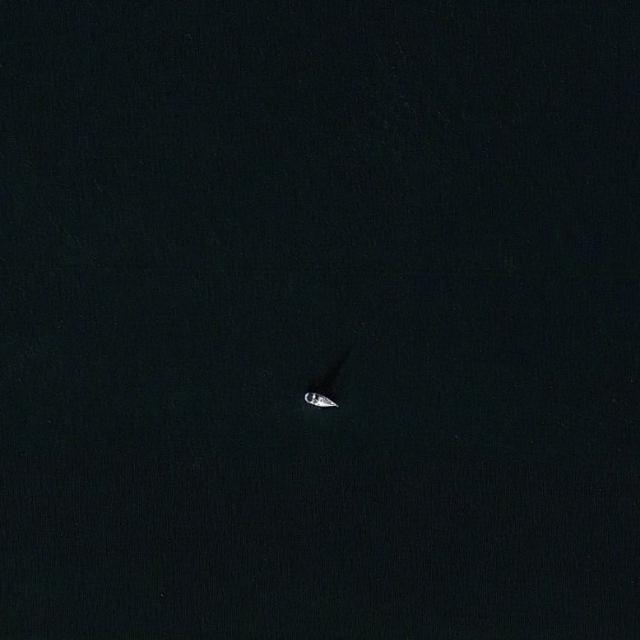ship: (299, 386, 342, 415)
